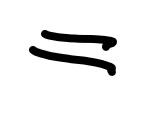eqv: (28, 30, 117, 76)
